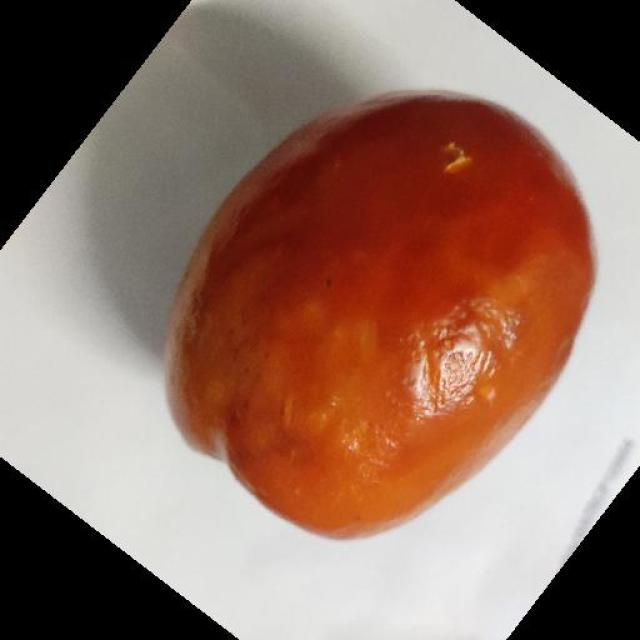Stale_tomato: (102, 80, 636, 532), (160, 95, 606, 508)
